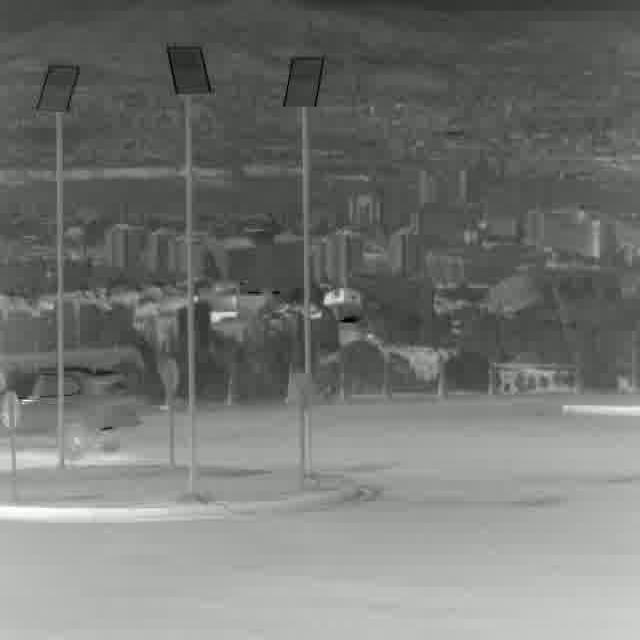Car: (0, 367, 125, 450)
